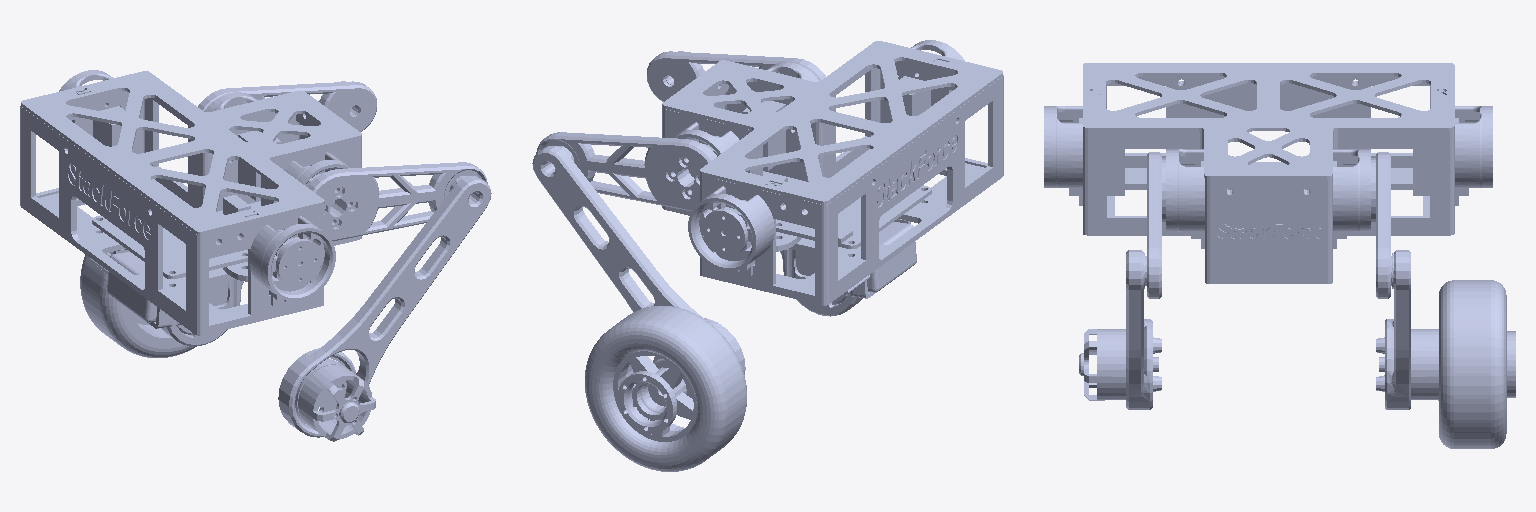
URDF robot description (20250820_1):
<?xml version="1.0" encoding="utf-8"?>
<!-- This URDF was automatically created by SolidWorks to URDF Exporter! Originally created by Stephen Brawner (brawner@gmail.com) 
     Commit Version: 1.6.0-4-g7f85cfe  Build Version: 1.6.7995.38578
     For more information, please see http://wiki.ros.org/sw_urdf_exporter -->
<robot
  name="20250820_1">
  <link
    name="base_link">
    <inertial>
      <origin
        xyz="0.0061304 0.0002476 -0.0093676"
        rpy="0 0 0" />
      <mass
        value="0.2660000" />
      <inertia
        ixx="0.0006309"
        ixy="0.0000006"
        ixz="-0.0000468"
        iyy="0.0003008"
        iyz="0.0000003"
        izz="0.0007489" />
    </inertial>
    <visual>
      <origin
        xyz="0 0 0"
        rpy="0 0 0" />
      <geometry>
        <mesh
          filename="../meshes/base_link.STL" />
      </geometry>
      <material
        name="">
        <color
          rgba="0.792156862745098 0.819607843137255 0.933333333333333 1" />
      </material>
    </visual>
    <collision>
      <origin
        xyz="0 0 0"
        rpy="0 0 0" />
      <geometry>
        <mesh
          filename="../meshes/base_link.STL" />
      </geometry>
    </collision>
  </link>
  <link
    name="LT_link">
    <inertial>
      <origin
        xyz="0.0012701 0.0040620 -0.0190086"
        rpy="0 0 0" />
      <mass
        value="0.0080000" />
      <inertia
        ixx="0.0000041"
        ixy="0.0000000"
        ixz="0.0000002"
        iyy="0.0000046"
        iyz="0.0000001"
        izz="0.0000005" />
    </inertial>
    <visual>
      <origin
        xyz="0 0 0"
        rpy="0 0 0" />
      <geometry>
        <mesh
          filename="../meshes/LT_link.STL" />
      </geometry>
      <material
        name="">
        <color
          rgba="0.792156862745098 0.819607843137255 0.933333333333333 1" />
      </material>
    </visual>
    <collision>
      <origin
        xyz="0 0 0"
        rpy="0 0 0" />
      <geometry>
        <mesh
          filename="../meshes/LT_link.STL" />
      </geometry>
    </collision>
  </link>
  <joint
    name="LT_joint"
    type="revolute">
    <origin
      xyz="0.037193 0.04014 0.00555"
      rpy="0 -1.3914 0" />
    <parent
      link="base_link" />
    <child
      link="LT_link" />
    <axis
      xyz="0 -1 0" />
    <limit
      lower="-1.3479"
      upper="0.3363"
      effort="30"
      velocity="1000" />
  </joint>
  <link
    name="LC_link">
    <inertial>
      <origin
        xyz="0.0013809 0.0047027 -0.0690315"
        rpy="0 0 0" />
      <mass
        value="0.0166292" />
      <inertia
        ixx="1.92606315320937E-05"
        ixy="-8.82655659688194E-09"
        ixz="-3.55356649539172E-07"
        iyy="1.99807316204063E-05"
        iyz="4.41228359669666E-07"
        izz="1.55379596081475E-06" />
    </inertial>
    <visual>
      <origin
        xyz="0 0 0"
        rpy="0 0 0" />
      <geometry>
        <mesh
          filename="../meshes/LC_link.STL" />
      </geometry>
      <material
        name="">
        <color
          rgba="0.792156862745098 0.819607843137255 0.933333333333333 1" />
      </material>
    </visual>
    <collision>
      <origin
        xyz="0 0 0"
        rpy="0 0 0" />
      <geometry>
        <mesh
          filename="../meshes/LC_link.STL" />
      </geometry>
    </collision>
  </link>
  <joint
    name="LC_joint"
    type="revolute">
    <origin
      xyz="0.00400624584257155 0.00825 -0.0599599974003271"
      rpy="3.14159265358979 0.970968251102385 3.14159265358979" />
    <parent
      link="LT_link" />
    <child
      link="LC_link" />
    <axis
      xyz="0 -1 0" />
    <limit
      lower="-0.29146998508"
      upper="1.25"
      effort="30"
      velocity="1000" />
  </joint>
  <link
    name="LW_link">
    <inertial>
      <origin
        xyz="0.0000000 0.0083246 0.0000000"
        rpy="0 0 0" />
      <mass
        value="0.0559681585451639" />
      <inertia
        ixx="0.0000121"
        ixy="0.0000000"
        ixz="0.0000000"
        iyy="0.0000209"
        iyz="0.0000000"
        izz="0.0000121" />
    </inertial>
    <visual>
      <origin
        xyz="0 0 0"
        rpy="0 0 0" />
      <geometry>
        <mesh
          filename="../meshes/LW_link.STL" />
      </geometry>
      <material
        name="">
        <color
          rgba="0.792156862745098 0.819607843137255 0.933333333333333 1" />
      </material>
    </visual>
    <collision>
      <origin
        xyz="0 0 0"
        rpy="0 0 0" />
      <geometry>
        <mesh
          filename="../meshes/LW_link.STL" />
      </geometry>
    </collision>
  </link>
  <joint
    name="LW_joint"
    type="revolute">
    <origin
      xyz="0.00200000000000076 0.024 -0.0999799979995941"
      rpy="0 -0.779219558190924 0" />
    <parent
      link="LC_link" />
    <child
      link="LW_link" />
    <axis
      xyz="0 1 0" />
    <limit
      lower="-1000000"
      upper="1000000"
      effort="5"
      velocity="1000" />
  </joint>
  <link
    name="RT_link">
    <inertial>
      <origin
        xyz="0.00127013 -0.0040620 -0.0190086"
        rpy="0 0 0" />
      <mass
        value="0.0080000" />
      <inertia
        ixx="0.0000041"
        ixy="0.0000000"
        ixz="0.0000002"
        iyy="0.0000046"
        iyz="0.0000001"
        izz="0.0000005" />
    </inertial>
    <visual>
      <origin
        xyz="0 0 0"
        rpy="0 0 0" />
      <geometry>
        <mesh
          filename="../meshes/RT_link.STL" />
      </geometry>
      <material
        name="">
        <color
          rgba="0.792156862745098 0.819607843137255 0.933333333333333 1" />
      </material>
    </visual>
    <collision>
      <origin
        xyz="0 0 0"
        rpy="0 0 0" />
      <geometry>
        <mesh
          filename="../meshes/RT_link.STL" />
      </geometry>
    </collision>
  </link>
  <joint
    name="RT_joint"
    type="revolute">
    <origin
      xyz="0.037193 -0.03976 0.00555"
      rpy="0 -1.3914 0" />
    <parent
      link="base_link" />
    <child
      link="RT_link" />
    <axis
      xyz="0 1 0" />
    <limit
      lower="-0.3363"
      upper="1.3479"
      effort="30"
      velocity="1000" />
  </joint>
  <link
    name="RC_link">
    <inertial>
      <origin
        xyz="-0.0013809 -0.0047027 -0.0690315"
        rpy="0 0 0" />
      <mass
        value="0.0166292" />
      <inertia
        ixx="0.0000240"
        ixy="0.0000000"
        ixz="0.0000004"
        iyy="0.0000245"
        iyz="-0.00000006"
        izz="0.0000016" />
    </inertial>
    <visual>
      <origin
        xyz="0 0 0"
        rpy="0 0 0" />
      <geometry>
        <mesh
          filename="../meshes/RC_link.STL" />
      </geometry>
      <material
        name="">
        <color
          rgba="0.792156862745098 0.819607843137255 0.933333333333333 1" />
      </material>
    </visual>
    <collision>
      <origin
        xyz="0 0 0"
        rpy="0 0 0" />
      <geometry>
        <mesh
          filename="../meshes/RC_link.STL" />
      </geometry>
    </collision>
  </link>
  <joint
    name="RC_joint"
    type="revolute">
    <origin
      xyz="0.0040062458425682 -0.00825000000001 -0.0599599974003474"
      rpy="-3.14159265358951 1.01097091824902 -3.14159265358956" />
    <parent
      link="RT_link" />
    <child
      link="RC_link" />
    <axis
      xyz="0 1 0" />
    <limit
      lower="-1.25"
      upper="0.29146998508"
      effort="30"
      velocity="1000" />
  </joint>
  <link
    name="RW__link">
    <inertial>
      <origin
        xyz="0.0000000 -0.0083246 0.0000000"
        rpy="0 0 0" />
      <mass
        value="0.0559681585451639" />
      <inertia
        ixx="0.0000121"
        ixy="0.0000000"
        ixz="0.0000000"
        iyy="0.0000209"
        iyz="0.0000000"
        izz="0.0000121" />
    </inertial>
    <visual>
      <origin
        xyz="0 0 0"
        rpy="0 0 0" />
      <geometry>
        <mesh
          filename="../meshes/RW__link.STL" />
      </geometry>
      <material
        name="">
        <color
          rgba="0.792156862745098 0.819607843137255 0.933333333333333 1" />
      </material>
    </visual>
    <collision>
      <origin
        xyz="0 0 0"
        rpy="0 0 0" />
      <geometry>
        <mesh
          filename="../meshes/RW__link.STL" />
      </geometry>
    </collision>
  </link>
  <joint
    name="RW_joint"
    type="revolute">
    <origin
      xyz="-0.00199999999999527 -0.0240000000000082 -0.0999799979995988"
      rpy="0 -0.739216891044192 0" />
    <parent
      link="RC_link" />
    <child
      link="RW__link" />
    <axis
      xyz="0 -1 0" />
    <limit
      lower="-1000000"
      upper="1000000"
      effort="5"
      velocity="1000" />
  </joint>
</robot>

--- Facts derived from the render (not from the file) ---
3 views of the same robot in one strip: view 1: azimuth 30°, elevation 25°; view 2: azimuth 150°, elevation 25°; view 3: azimuth 270°, elevation 25° (orthographic).
Model 20250820_1 with 7 links and 6 joints (6 revolute), rooted at base_link, posed all joints at 0.
Links seen in each view (by area): view 1: base_link, RC_link, RT_link, LW_link, LT_link, LC_link; view 2: base_link, LW_link, LC_link, LT_link, RT_link, RC_link; view 3: base_link, LW_link, RC_link, LC_link, LT_link, RT_link.
Link boxes in pixels (x1=…): base_link: x1=20, y1=70, x2=361, y2=335; RC_link: x1=278, y1=176, x2=491, y2=441; RT_link: x1=307, y1=162, x2=487, y2=240; LW_link: x1=80, y1=252, x2=196, y2=357; LT_link: x1=198, y1=81, x2=376, y2=131; LC_link: x1=161, y1=81, x2=357, y2=346; base_link: x1=662, y1=40, x2=1003, y2=305; LW_link: x1=585, y1=306, x2=746, y2=471; LC_link: x1=532, y1=146, x2=745, y2=379; LT_link: x1=536, y1=132, x2=716, y2=210; RT_link: x1=647, y1=51, x2=825, y2=101; RC_link: x1=666, y1=51, x2=862, y2=316; base_link: x1=1044, y1=63, x2=1492, y2=283; LW_link: x1=1439, y1=280, x2=1515, y2=448; RC_link: x1=1079, y1=250, x2=1161, y2=409; LC_link: x1=1376, y1=250, x2=1438, y2=409; LT_link: x1=1371, y1=152, x2=1390, y2=298; RT_link: x1=1147, y1=152, x2=1165, y2=298.
Size in the robot's own frame: 0.1506 by 0.1839 by 0.13 metres.
Meshes: 7 distinct files referenced, 6 mesh visuals loaded (6 binary STL); not drawn: 1 (reference not matched to a file when rendering).
